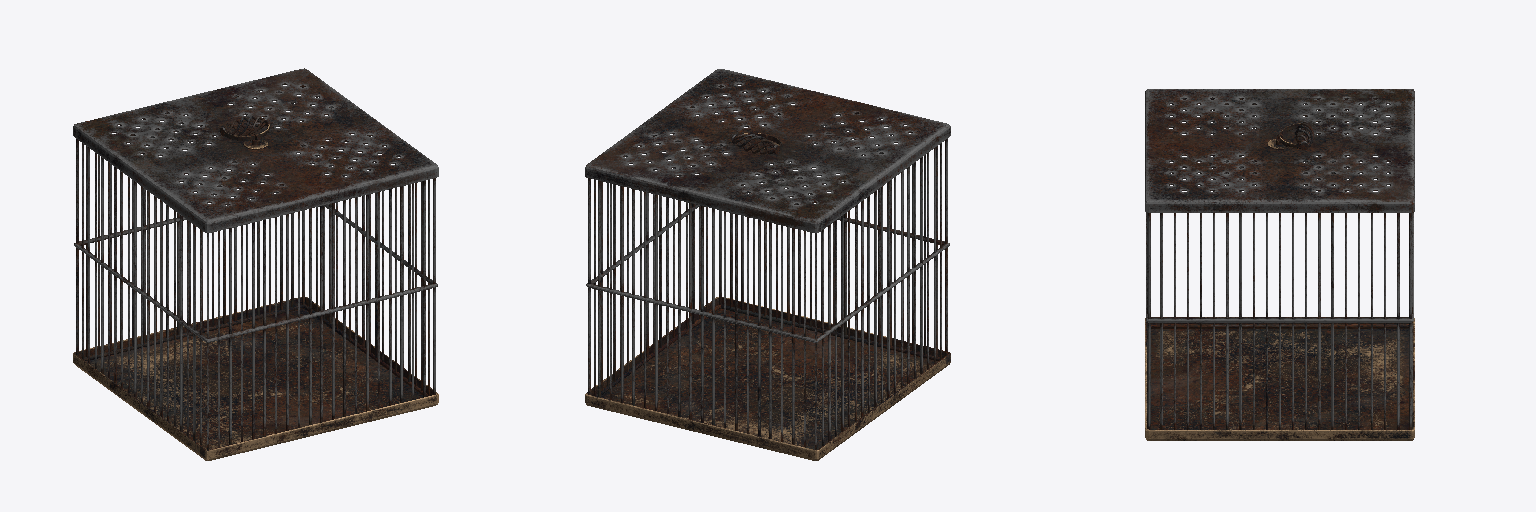
3 renders of one model, left to right at view 1: azimuth 30°, elevation 25°; view 2: azimuth 150°, elevation 25°; view 3: azimuth 270°, elevation 25°, orthographic.
Parts seen in each view (by area): view 1: Cylinder.009_Material.001; view 2: Cylinder.009_Material.001; view 3: Cylinder.009_Material.001.
Boxes of the visible parts, box(x1,y1,x2,y2) form: Cylinder.009_Material.001: box(73, 68, 438, 460); Cylinder.009_Material.001: box(585, 69, 950, 460); Cylinder.009_Material.001: box(1145, 89, 1414, 440).
Size of the model in its own units: 0.4996 by 0.5286 by 0.4996.
Materials: 1 (1 with a texture image).